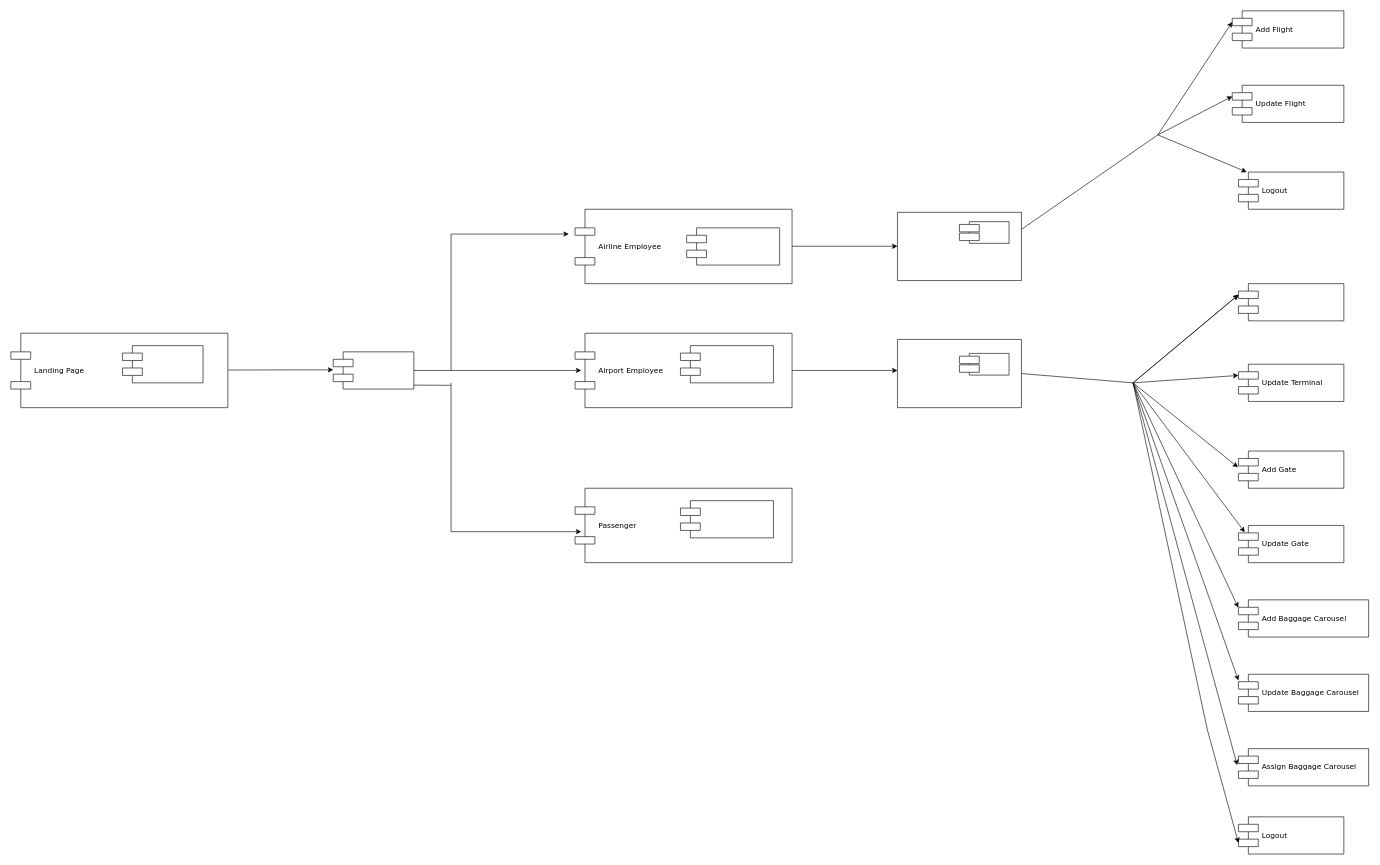
Some shapes in this 1380 by 865 pixel diagram are drawn without their labels. The shapes that lost their labels are listed below. From the top down, each one's centre as x and y in pixels, then its label:
the point at 1291,302: Add Terminal
the point at 373,370: Login
